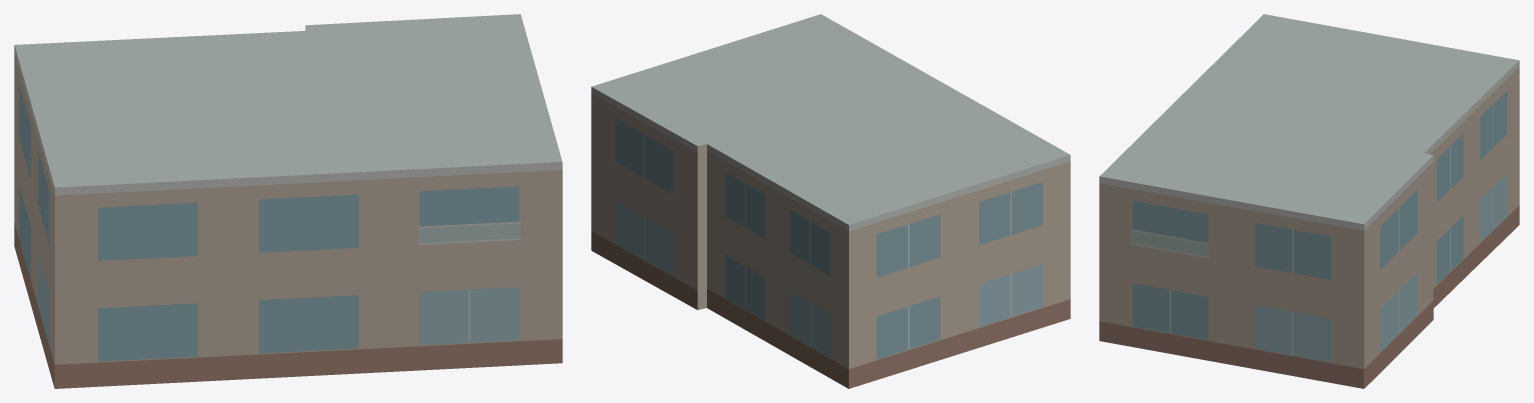
File: survey-upis-32567317.glb
3 renders of one model, left to right at view 1: azimuth 30°, elevation 25°; view 2: azimuth 150°, elevation 25°; view 3: azimuth 270°, elevation 25°, orthographic. The views are drawn at different scales.
Visible parts, largest first — view 1: survey-upis-32567317.tmp; view 2: survey-upis-32567317.tmp; view 3: survey-upis-32567317.tmp.
Boxes of the visible parts, bbox=[...] form: survey-upis-32567317.tmp: bbox=[14, 14, 562, 388]; survey-upis-32567317.tmp: bbox=[591, 14, 1070, 388]; survey-upis-32567317.tmp: bbox=[1099, 14, 1519, 388].
Bounding box in the file's own units: 16.73 × 6.1 × 14.12.
